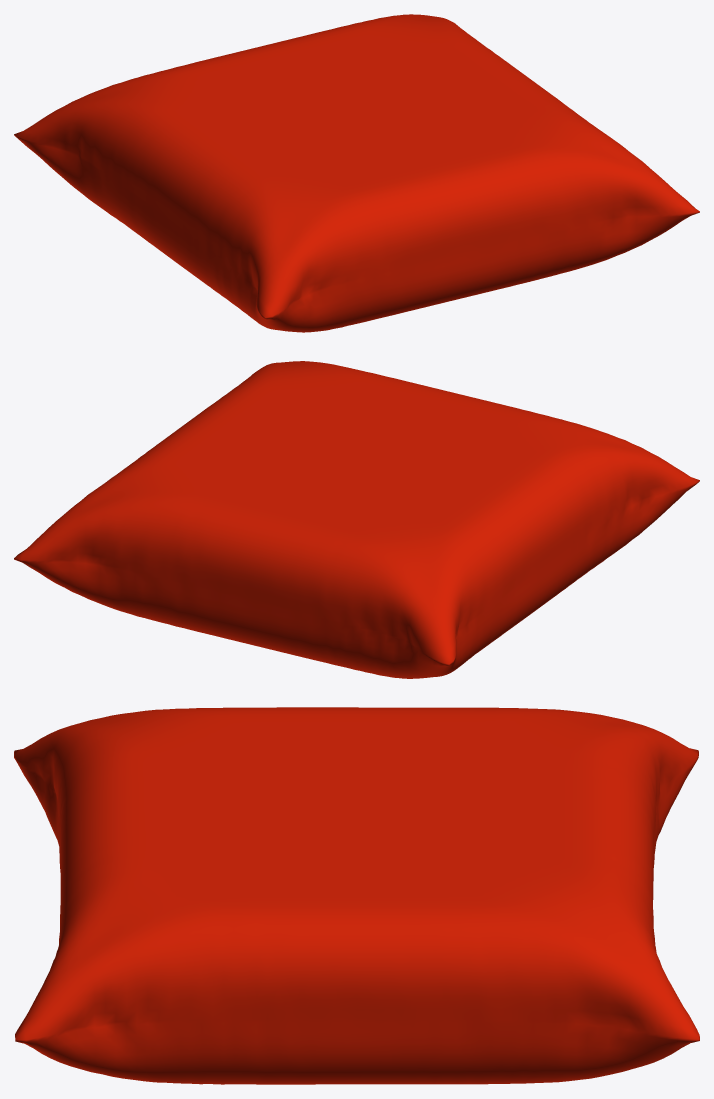
The model's file is pillow.fbx.
3 views of the same model, one above another, from view 1: azimuth 30°, elevation 25°; view 2: azimuth 150°, elevation 25°; view 3: azimuth 270°, elevation 25° (orthographic). The views are drawn at different scales.
Visible parts, largest first — view 1: Plane; view 2: Plane; view 3: Plane.
Boxes of the visible parts, x1=… form: Plane: x1=14, y1=14, x2=699, y2=332; Plane: x1=14, y1=361, x2=699, y2=678; Plane: x1=14, y1=707, x2=699, y2=1084.
Bounding box in the file's own units: 191 × 52.48 × 191.
